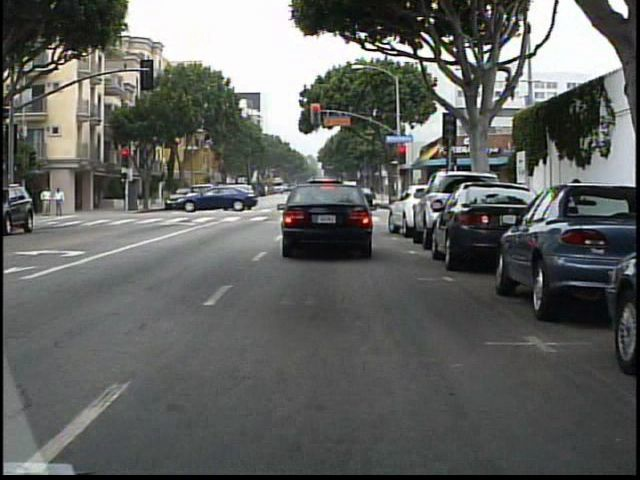person: (40, 186, 56, 220), (54, 187, 69, 219), (36, 187, 37, 218)
